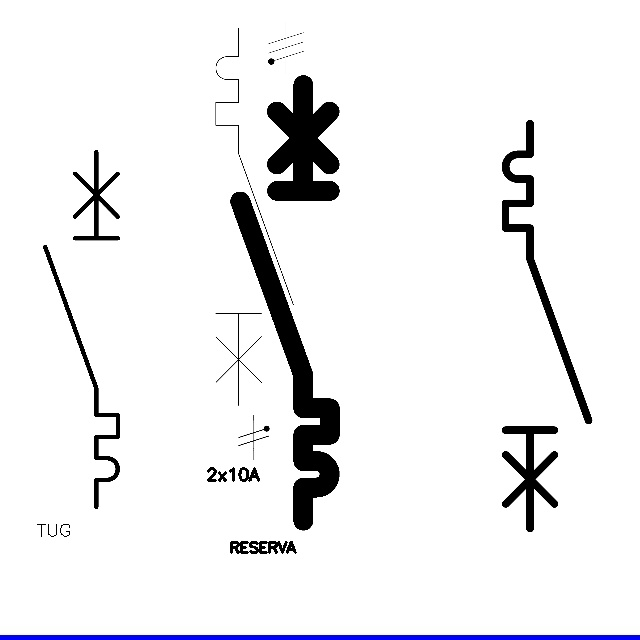interruptor_termomagnetico: (229, 73, 341, 531), (495, 113, 599, 539), (206, 18, 303, 415), (36, 143, 127, 516)
